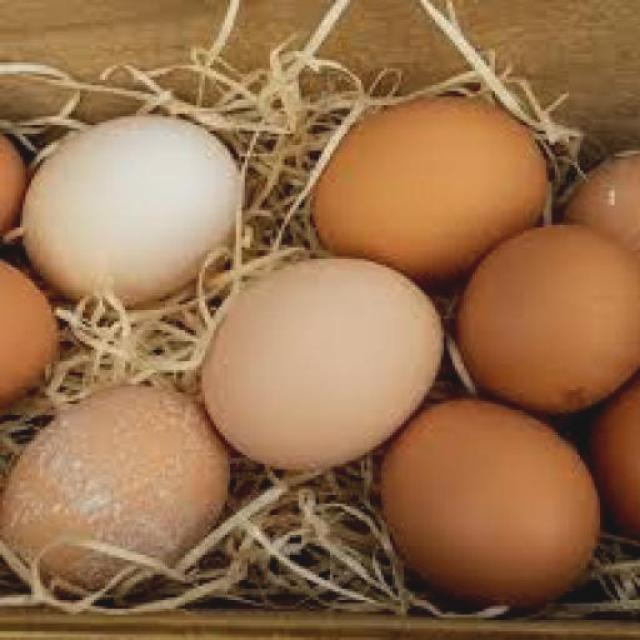telur: (202, 258, 439, 471), (0, 382, 228, 593), (380, 399, 595, 608), (311, 98, 545, 288), (22, 115, 239, 308), (452, 226, 636, 415), (567, 153, 639, 264)
